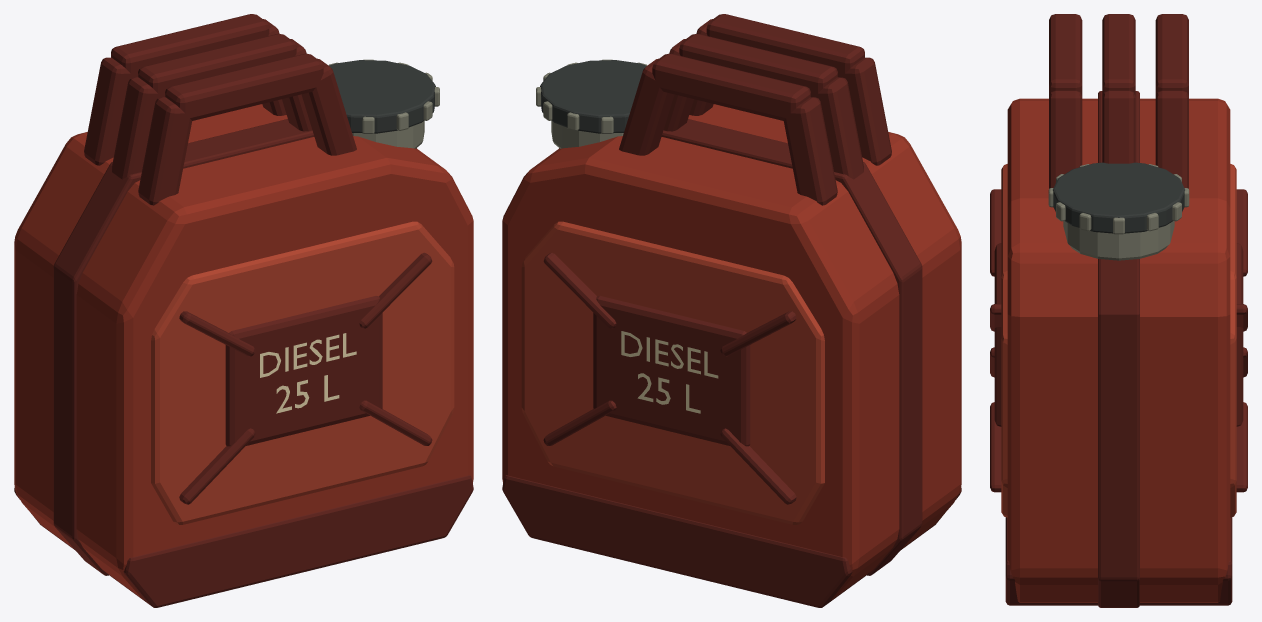
Rendered from DeadRail_Fuel_Can_Large.fbx.
The picture shows the model from 3 angles, left to right: view 1: azimuth 30°, elevation 25°; view 2: azimuth 150°, elevation 25°; view 3: azimuth 270°, elevation 25°; orthographic projection.
Visible parts, largest first — view 1: DeadRail_Fuel_Can_Large_Mesh; view 2: DeadRail_Fuel_Can_Large_Mesh; view 3: DeadRail_Fuel_Can_Large_Mesh.
Boxes of the visible parts, bbox=[...] form: DeadRail_Fuel_Can_Large_Mesh: bbox=[14, 14, 473, 607]; DeadRail_Fuel_Can_Large_Mesh: bbox=[502, 14, 961, 607]; DeadRail_Fuel_Can_Large_Mesh: bbox=[990, 14, 1247, 607].
Size of the model in its own units: 0.4127 by 0.5217 by 0.255.
